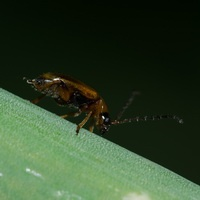insect: (23, 72, 138, 134)
